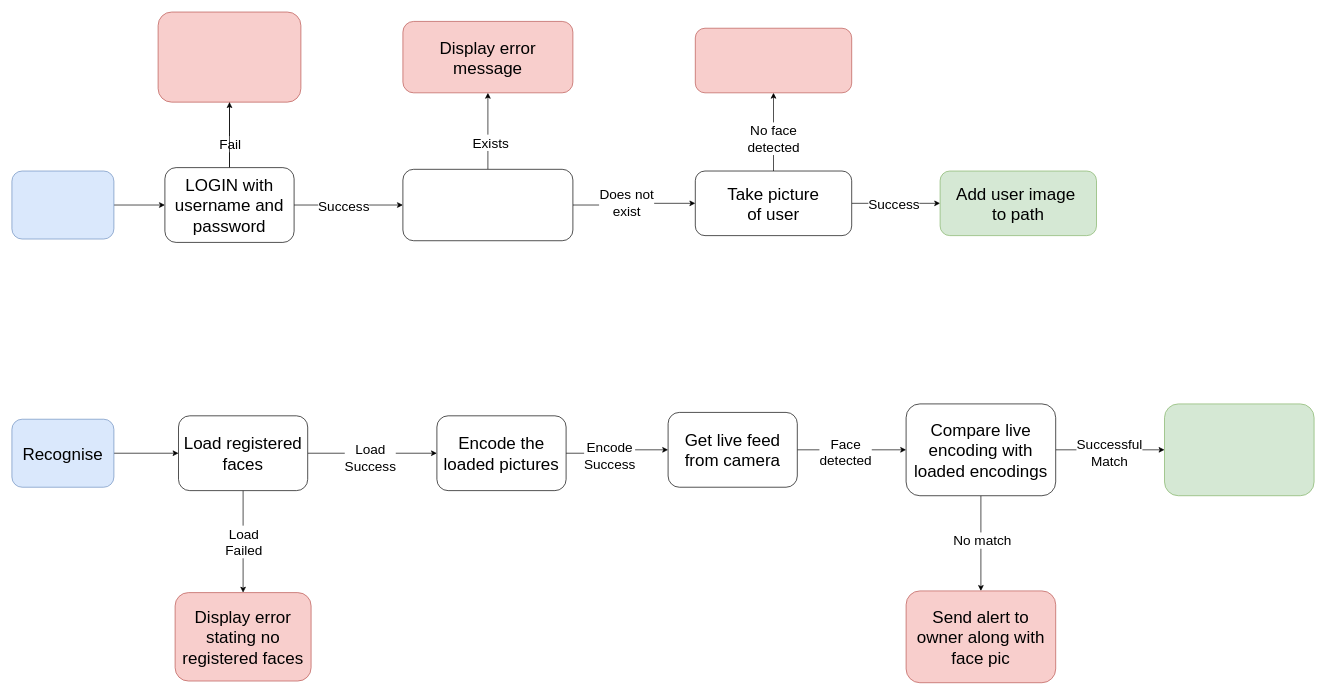
Some shapes in this 1326 by 695 pixel diagram are drawn without their labels. The shapes that lost their labels are listed below. From the top down, each one's centre as x and y in pixels, then its label:
At pixel 229 56: "Send alert to owner about failed attempt".
At pixel 773 60: "Send error: No face detected".
At pixel 62 204: "Register".
At pixel 487 205: "Get username and check if username exists".
At pixel 1239 449: "Open Door Lock".
